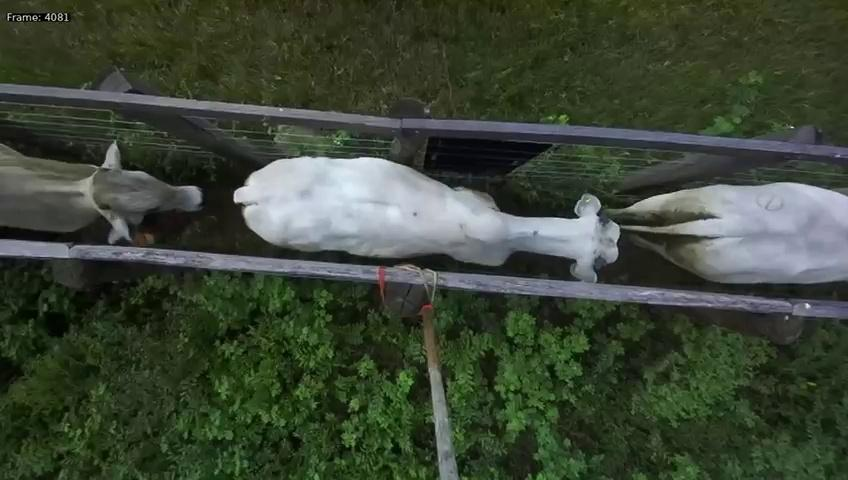cattle: (227, 149, 627, 284), (0, 126, 208, 248)
